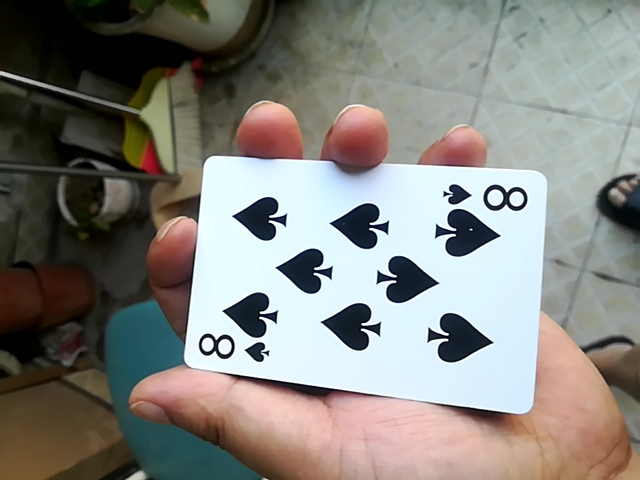ht 8: (175, 155, 546, 411)
